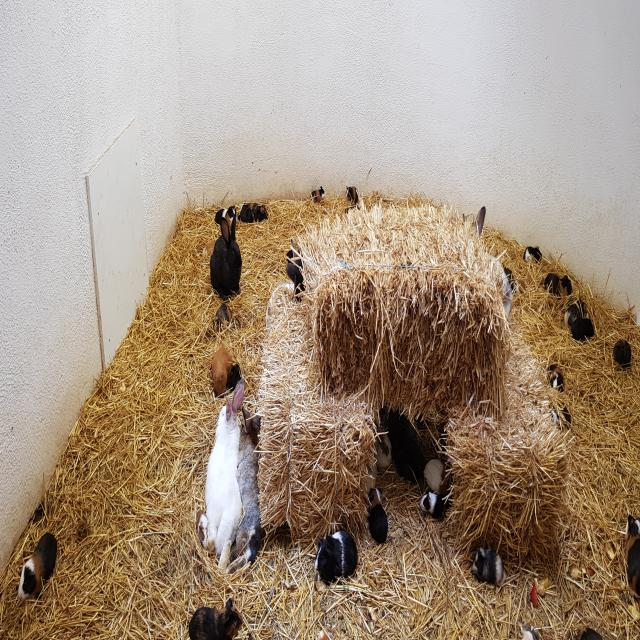guinea pig: (15, 530, 57, 605), (186, 594, 244, 640), (314, 529, 358, 583), (623, 511, 640, 610), (471, 544, 507, 588), (368, 485, 388, 545), (211, 345, 233, 397), (419, 488, 451, 521), (544, 271, 572, 300), (211, 301, 232, 336), (564, 297, 586, 326), (612, 338, 632, 368), (570, 316, 594, 341), (547, 363, 566, 394), (215, 205, 238, 228), (523, 244, 542, 266), (508, 276, 526, 298), (250, 204, 270, 223), (345, 183, 360, 206), (229, 364, 241, 392), (310, 186, 325, 206), (238, 201, 258, 215)
